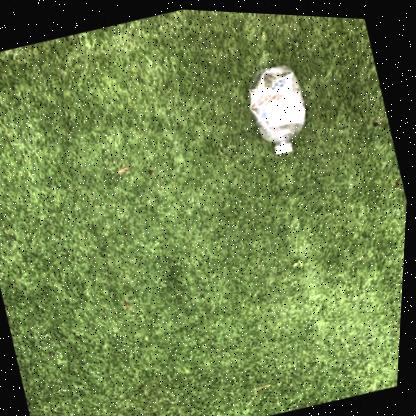Plastic: (249, 60, 306, 150)
